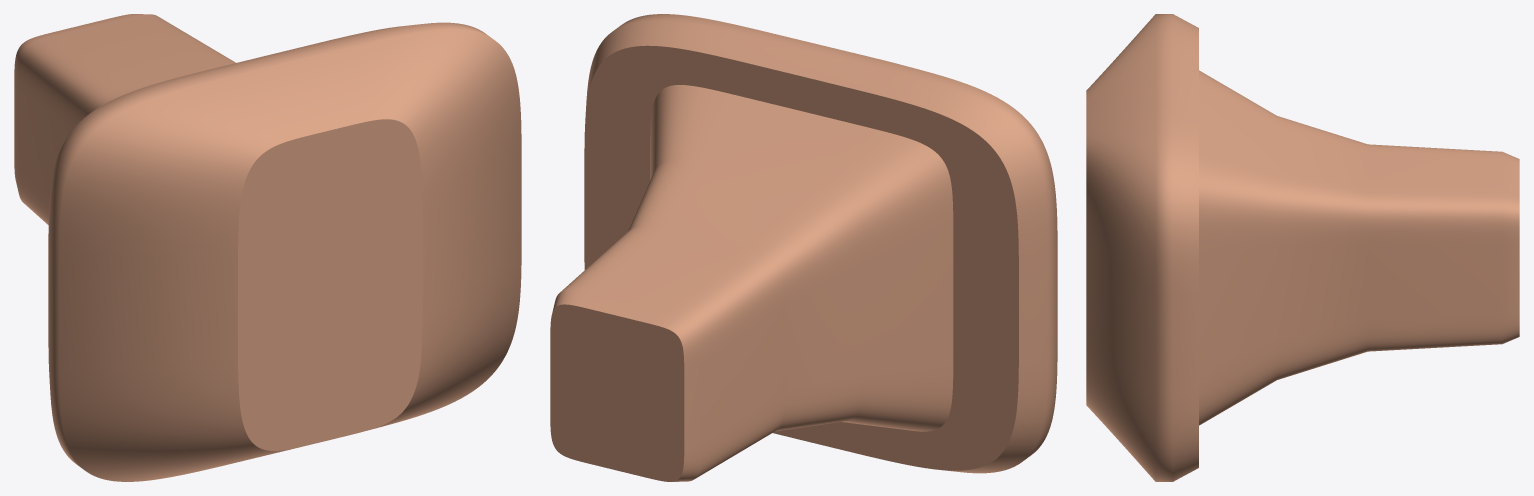
Rendered from eurofit-k-61709sb-v2.glb.
3 views of the same model, side by side, from view 1: azimuth 30°, elevation 25°; view 2: azimuth 150°, elevation 25°; view 3: azimuth 270°, elevation 25° (orthographic). The views are drawn at different scales.
Parts seen in each view (by area): view 1: K61709 bevelled crown with flat ridge, K61709 tapered rectangular stem; view 2: K61709 tapered rectangular stem, K61709 bevelled crown with flat ridge; view 3: K61709 tapered rectangular stem, K61709 bevelled crown with flat ridge.
Part boxes in pixels (<box>): K61709 bevelled crown with flat ridge: <box>48,22,521,481</box>; K61709 tapered rectangular stem: <box>14,14,235,224</box>; K61709 tapered rectangular stem: <box>550,85,953,481</box>; K61709 bevelled crown with flat ridge: <box>584,14,1057,473</box>; K61709 tapered rectangular stem: <box>1199,70,1519,425</box>; K61709 bevelled crown with flat ridge: <box>1086,14,1198,481</box>.
Size of the model in its own units: 0.03 by 0.024 by 0.028.
